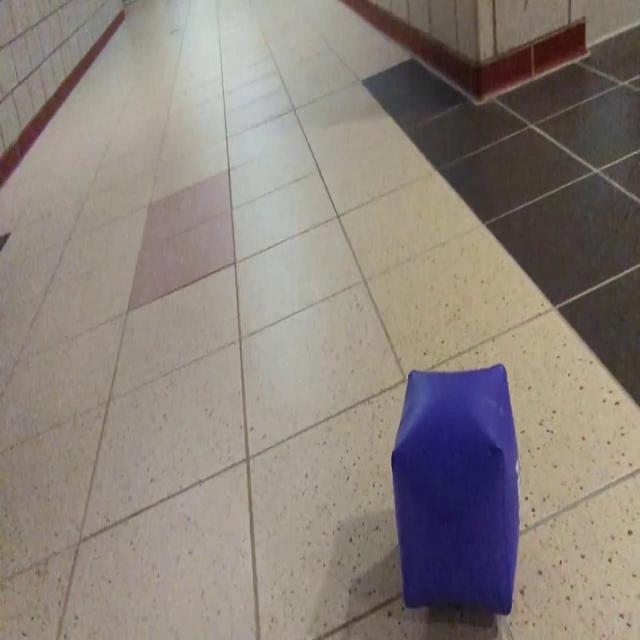frc_cube: (391, 363, 521, 615)
